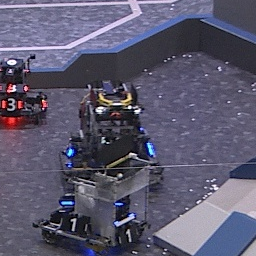Dead: (59, 214, 90, 235), (116, 227, 140, 245)
Red: (1, 82, 28, 94), (2, 99, 22, 111)
Robot: (58, 79, 163, 188), (39, 147, 148, 249), (1, 55, 46, 123)
